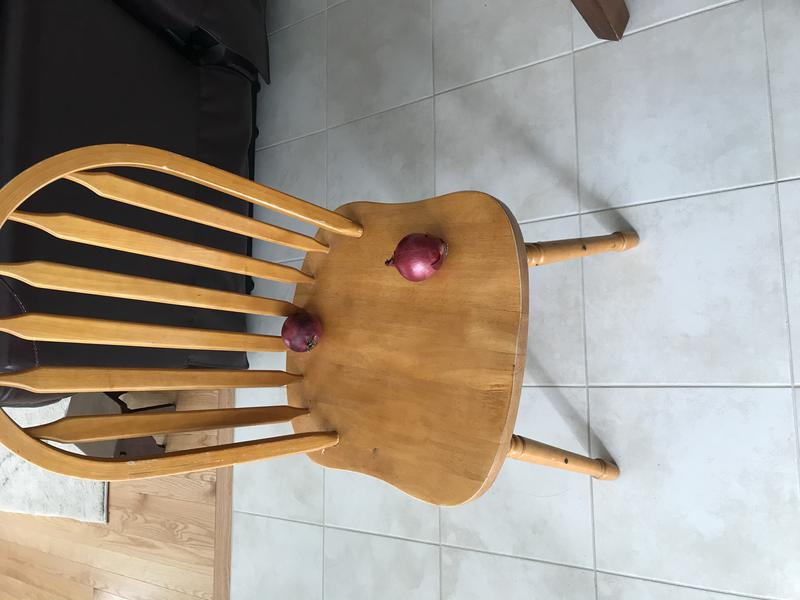purple_onion: (381, 224, 451, 286), (276, 305, 322, 357)
